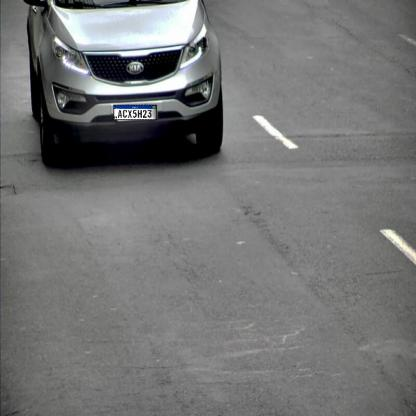PlacaM: (113, 105, 157, 120)
